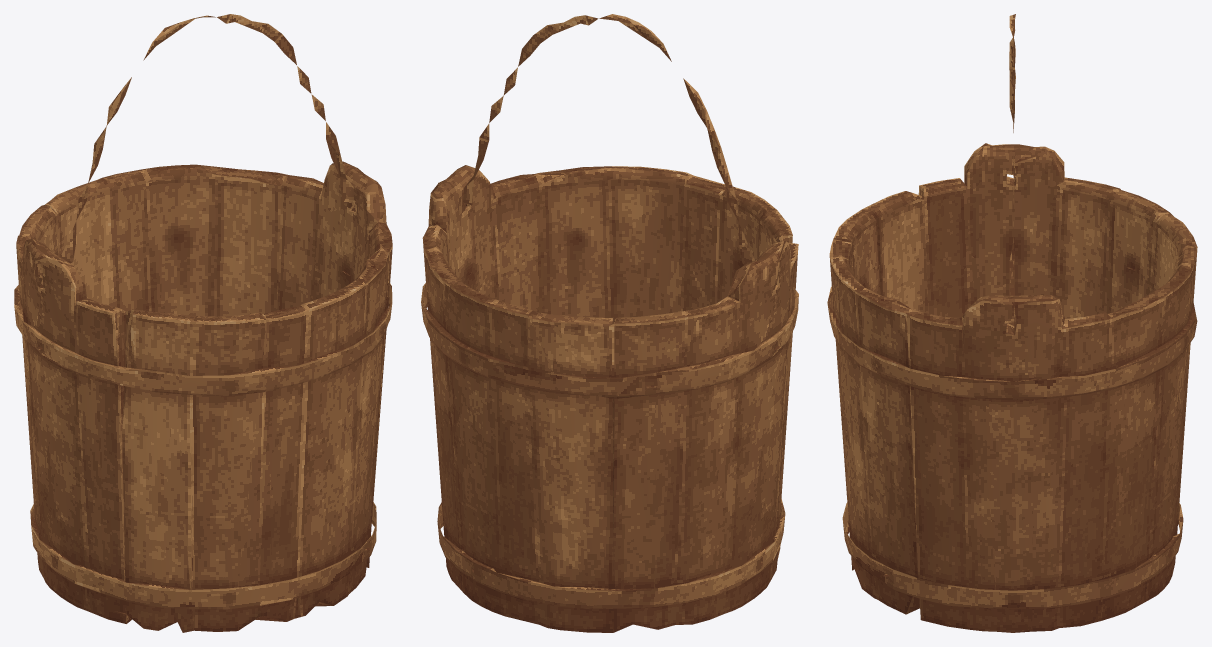
File: wooden_bucket_01.glb
3 renders of one model, left to right at view 1: azimuth 30°, elevation 25°; view 2: azimuth 150°, elevation 25°; view 3: azimuth 270°, elevation 25°, orthographic. The views are drawn at different scales.
Parts seen in each view (by area): view 1: mesh; view 2: mesh; view 3: mesh.
Boxes of the visible parts, x1,y1,x2,y2 form: mesh: (14,14,392,632); mesh: (421,14,798,632); mesh: (827,14,1197,632).
Bounding box in the file's own units: 21.65 × 32.99 × 20.59.
1 material, 1 textured.
